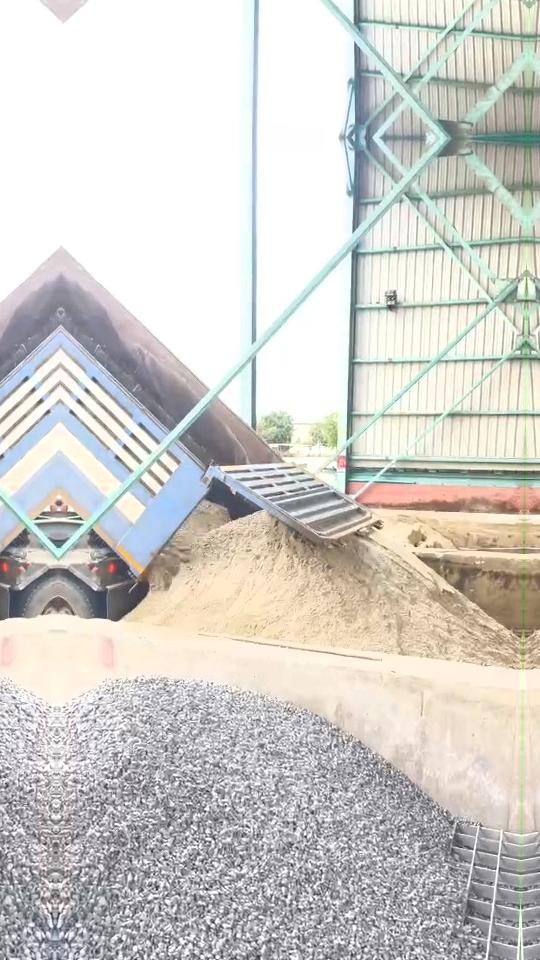gravel: (54, 676, 478, 960)
sand: (126, 513, 520, 667), (143, 501, 229, 593), (383, 518, 455, 547)
